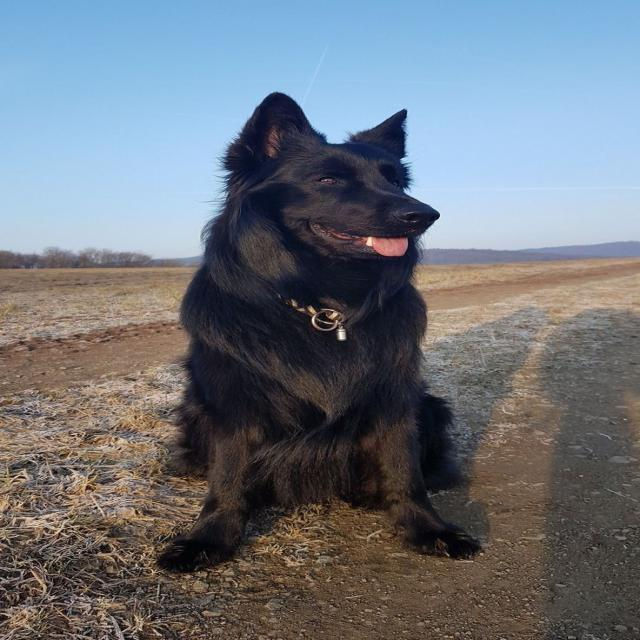Dogs: (151, 90, 490, 576)
